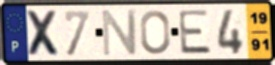4: (215, 8, 245, 56)
7: (63, 9, 93, 58)
E: (177, 8, 214, 56)
N: (100, 8, 139, 58)
O: (139, 9, 172, 56)
X: (24, 9, 64, 58)
